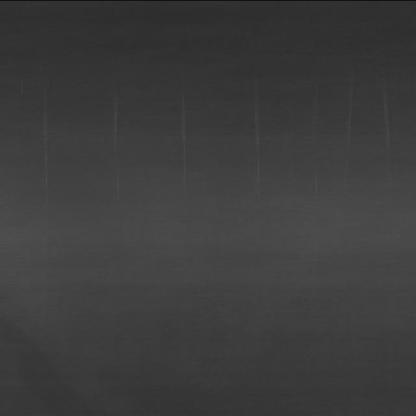waist_folding: (35, 66, 390, 192)
